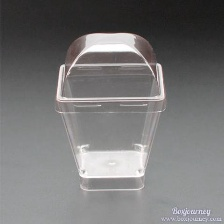glass: (46, 27, 175, 203)
